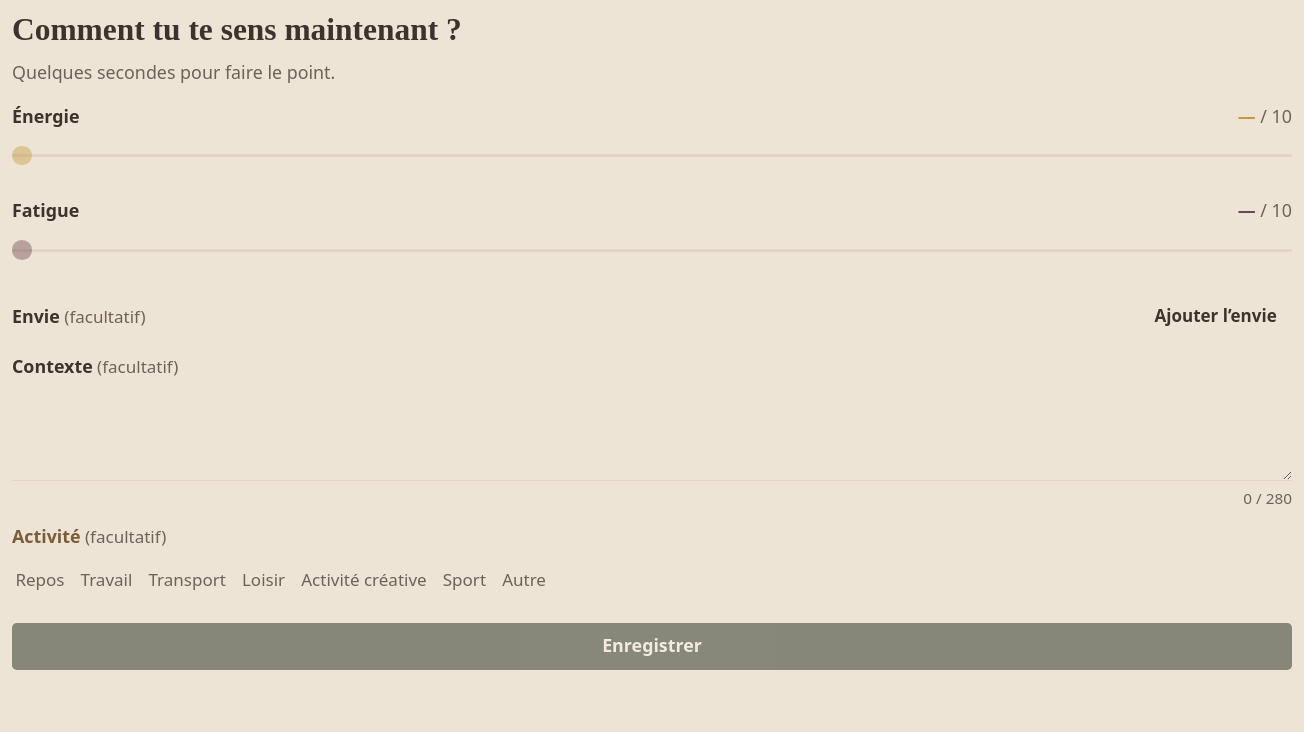
LogPage › erreur réseau : message clair et valeurs conservées
Press the mouse on the slider labelled "Énergie" at (652, 156), box [12,132,1292,179]
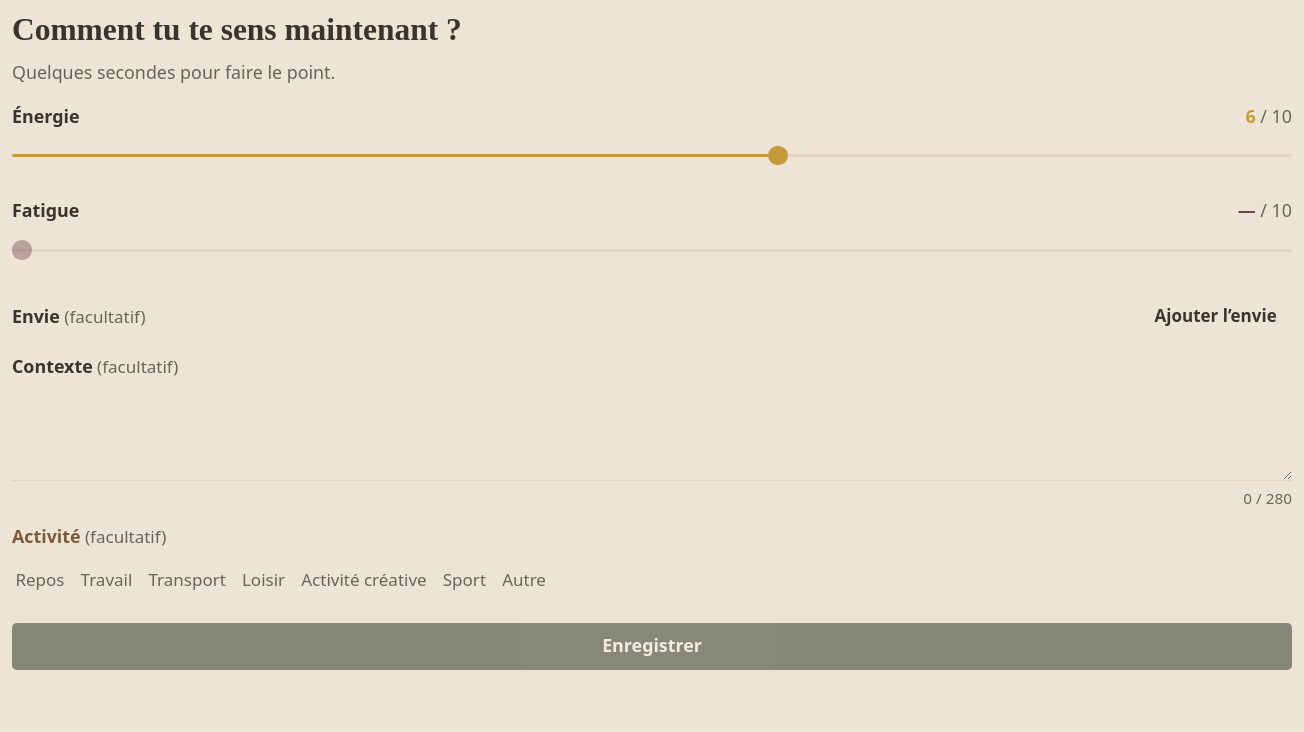
Press the mouse on the slider labelled "Fatigue" at (652, 250), box [12,227,1292,274]
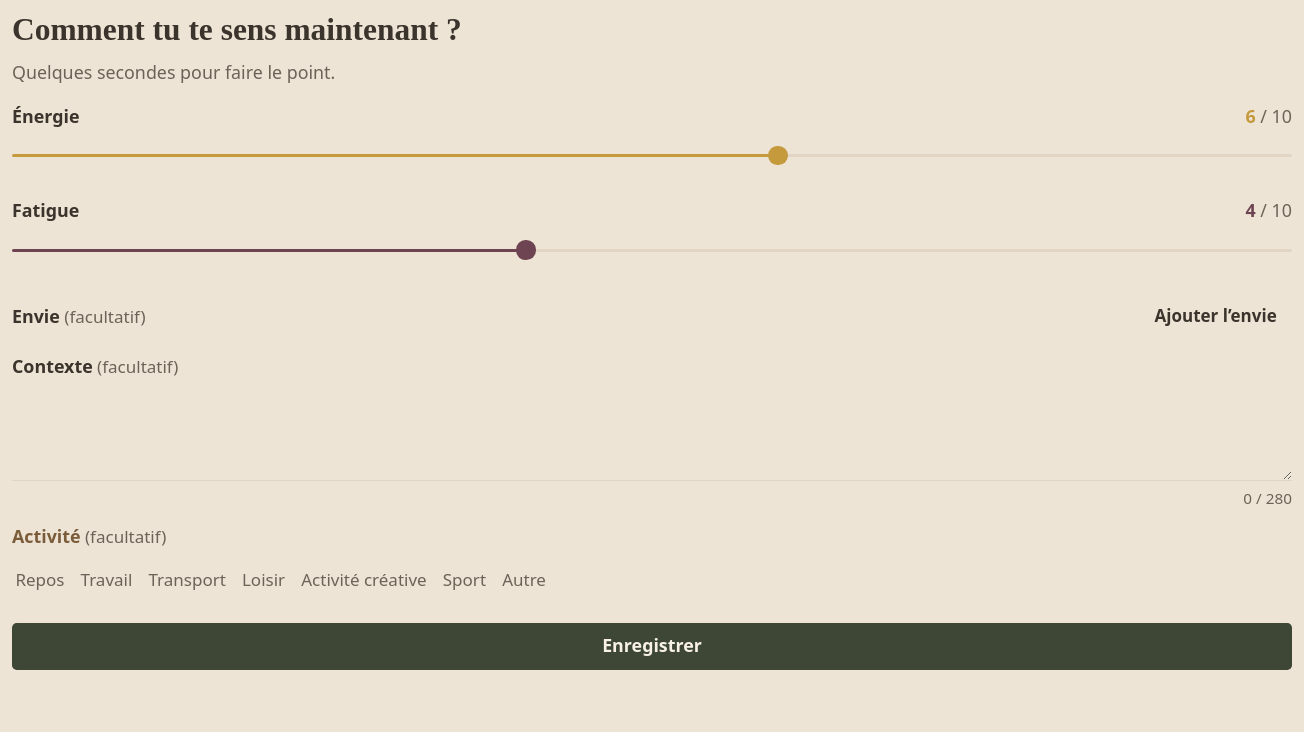
Click the button "Enregistrer". click: (652, 646)
box: [12,623,1292,670]
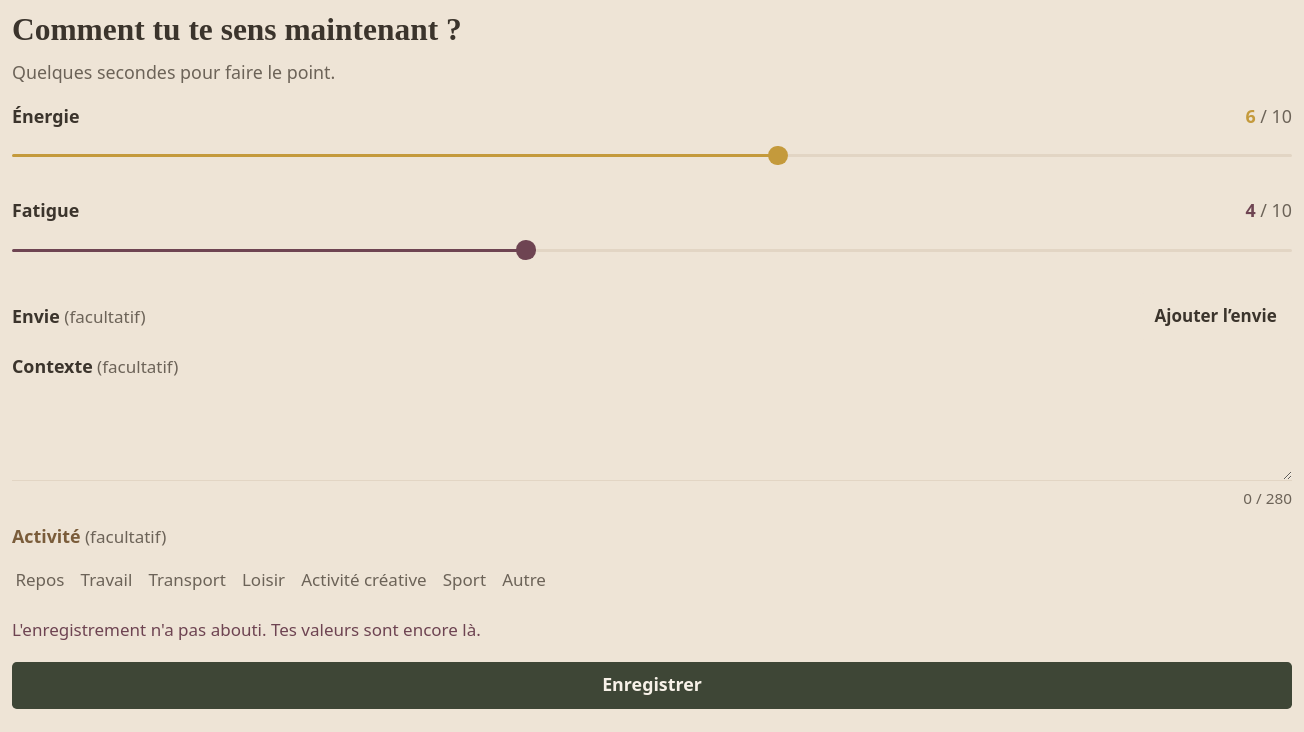
Result: the text "6" is shown at [1245,104,1256,128]
Result: the text "4" is shown at [1245,198,1256,222]
Result: the message reads "L'enregistrement n'a pas abouti. Tes valeurs sont encore là." at [12,618,481,641]
